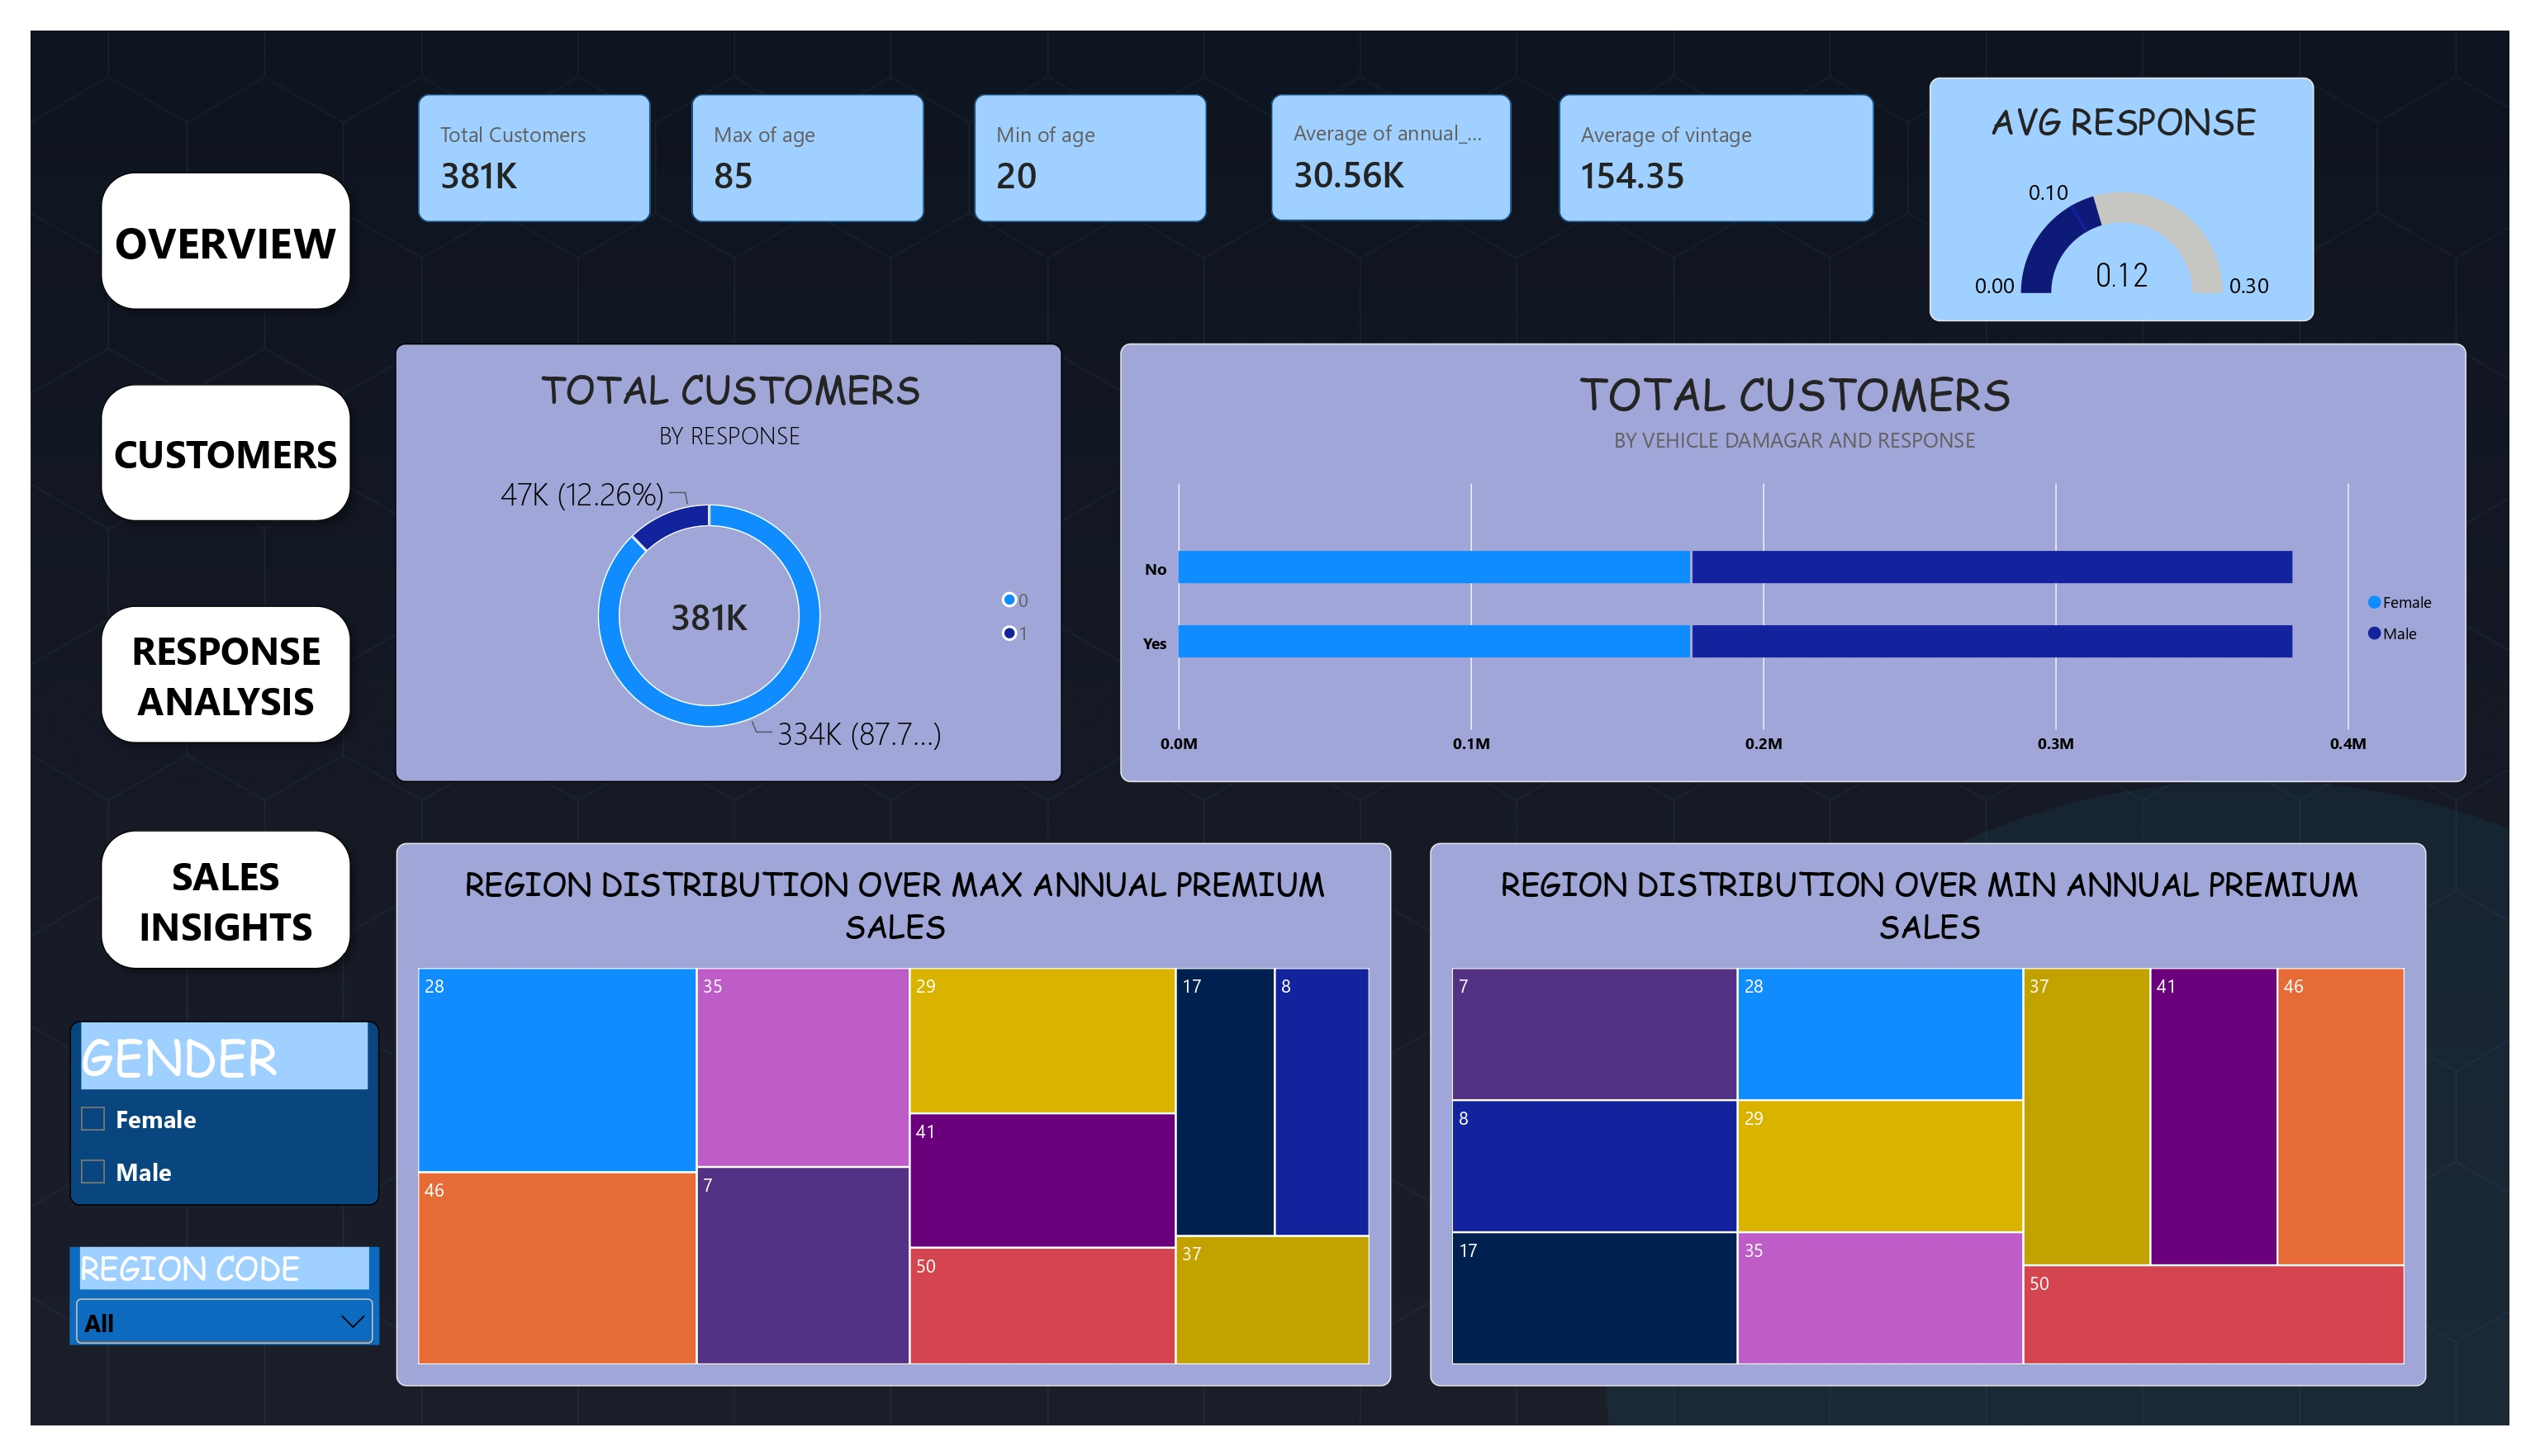

This screenshot's page, from the dashboard's own definition file:
{"tool":"powerbi","page":{"name":"OVERVIEW","canvas":[1920,1080],"ordinal":0},"visuals":[{"type":"shape","box":[44.6,99.9,212.6,125.4],"z":0},{"type":"shape","box":[44.6,263.6,212.6,125.4],"z":1000},{"type":"shape","box":[44.6,435.8,212.6,125.4],"z":2000},{"type":"shape","box":[44.6,610.2,212.6,125.4],"z":3000},{"type":"cardVisual","fields":{"Data":["Vehicle_Insurance_cleaned.Total Customers"]},"box":[299.8,48.9,180.7,99.9],"z":4000},{"type":"cardVisual","fields":{"Data":["Max(Sheet1.age)"]},"box":[512.4,48.9,180.7,99.9],"z":5000},{"type":"cardVisual","fields":{"Data":["Avg(Sheet1.vintage)"]},"box":[1184.2,48.9,244.5,99.9],"z":6000},{"type":"cardVisual","fields":{"Data":["Avg(Sheet1.annual_premium)"]},"box":[960.9,48.9,186.6,98.7],"z":7000},{"type":"donutChart","title":"TOTAL CUSTOMERS ","fields":{"Category":["Vehicle_Insurance_cleaned.Response"],"Y":["Vehicle_Insurance_cleaned.Total Customers"]},"box":[282.2,241.9,516.5,340.2],"z":8000},{"type":"gauge","title":"AVG RESPONSE ","fields":{"Y":["Avg(Sheet1.response)"]},"box":[1471.2,36.1,298.2,188.8],"z":9000},{"type":"barChart","title":"TOTAL CUSTOMERS ","fields":{"Category":["Sheet1.vehicle_damage"],"Series":["Vehicle_Insurance_cleaned.Gender"],"Y":["Vehicle_Insurance_cleaned.Total Customers"]},"box":[844.1,241.9,1043.1,340.2],"z":10000},{"type":"cardVisual","fields":{"Data":["Min(Sheet1.age)"]},"box":[731.3,48.9,180.7,99.9],"z":11000},{"type":"slicer","fields":{"Values":["Sheet1.gender"]},"box":[29.8,767.5,240.2,142.4],"z":12000},{"type":"slicer","fields":{"Values":["Sheet1.region_code"]},"box":[29.8,941.8,240.2,76.5],"z":13000},{"type":"treemap","title":"REGION DISTRIBUTION  OVER MAX ANNUAL PREMIUM SALES ","fields":{"Group":["Sheet1.region_code"],"Values":["Max(Sheet1.annual_premium)"]},"box":[282.8,629.3,771.7,420.9],"z":14001},{"type":"treemap","title":"REGION DISTRIBUTION OVER MIN  ANNUAL PREMIUM SALES ","fields":{"Group":["Sheet1.region_code"],"Values":["Min(Sheet1.annual_premium)"]},"box":[1084.3,629.3,771.7,420.9],"z":14002}]}

Visuals, with their boxes on the page's 1920x1080 design canvas (x1, y1, x2, y2). These are canvas units, not pixel positions in the 2540x1456 screenshot, which may show the page scaled, cropped or inside an application window:
shape: <box>45,100,257,225</box>
shape: <box>45,264,257,389</box>
shape: <box>45,436,257,561</box>
shape: <box>45,610,257,736</box>
cardVisual - Vehicle_Insurance_cleaned.Total Customers: <box>300,49,480,149</box>
cardVisual - Max(Sheet1.age): <box>512,49,693,149</box>
cardVisual - Avg(Sheet1.vintage): <box>1184,49,1429,149</box>
cardVisual - Avg(Sheet1.annual_premium): <box>961,49,1148,148</box>
"TOTAL CUSTOMERS " donutChart: <box>282,242,799,582</box>
"AVG RESPONSE " gauge: <box>1471,36,1769,225</box>
"TOTAL CUSTOMERS " barChart: <box>844,242,1887,582</box>
cardVisual - Min(Sheet1.age): <box>731,49,912,149</box>
slicer - Sheet1.gender: <box>30,768,270,910</box>
slicer - Sheet1.region_code: <box>30,942,270,1018</box>
"REGION DISTRIBUTION  OVER MAX ANNUAL PREMIUM SALES " treemap: <box>283,629,1054,1050</box>
"REGION DISTRIBUTION OVER MIN  ANNUAL PREMIUM SALES " treemap: <box>1084,629,1856,1050</box>
